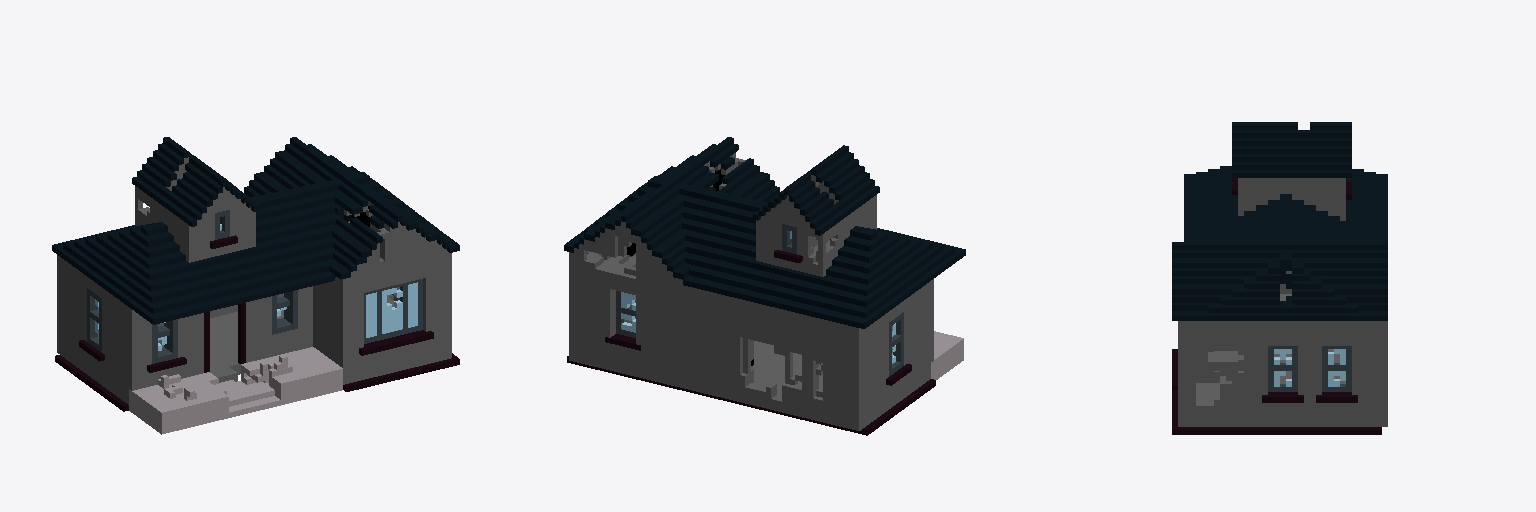
3 views of the same model, side by side, from view 1: azimuth 30°, elevation 25°; view 2: azimuth 150°, elevation 25°; view 3: azimuth 270°, elevation 25° (orthographic).
Visible parts, largest first — view 1: object 1; view 2: object 1; view 3: object 1.
Part boxes in pixels (x1,y1,x2,y2): object 1: (52, 137, 459, 434); object 1: (564, 137, 965, 435); object 1: (1172, 122, 1387, 434).
Size of the model in its own units: 5.8 by 3.9 by 3.6.
Materials: 1 (1 with a texture image).